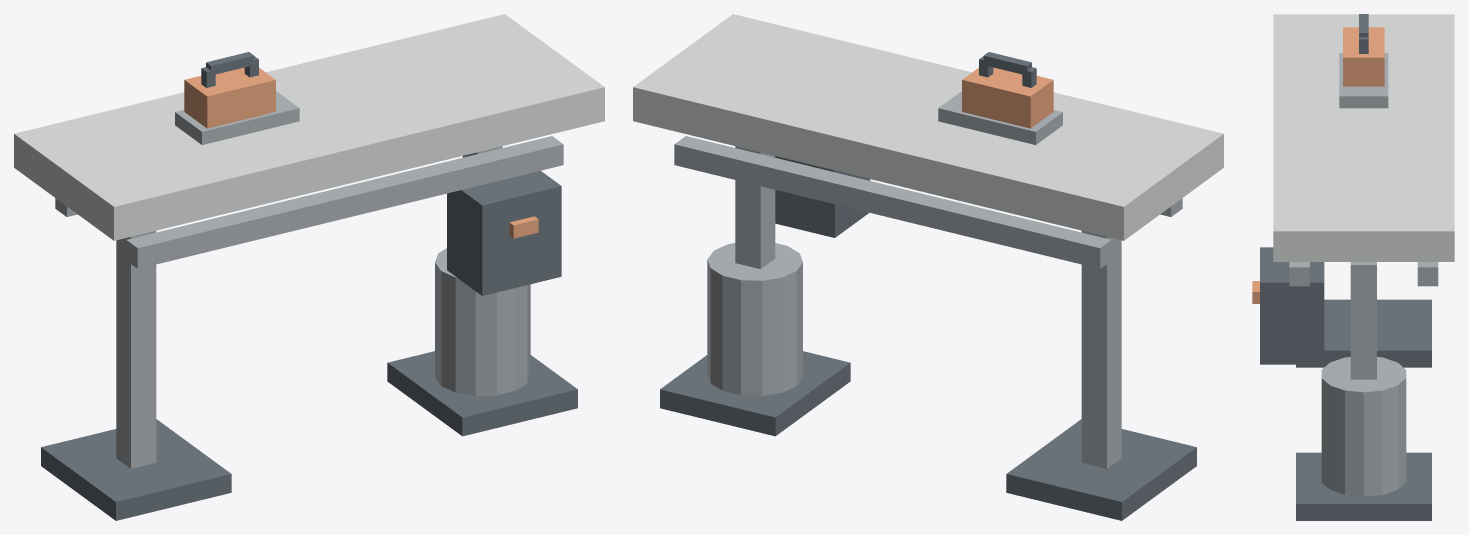
Rendered from production_ironing_station.glb.
3 renders of one model, left to right at view 1: azimuth 30°, elevation 25°; view 2: azimuth 150°, elevation 25°; view 3: azimuth 270°, elevation 25°, orthographic. The views are drawn at different scales.
Visible parts, largest first — view 1: Prop_00_00_IronStation_00_PaddedBoard_geo, Prop_01_01_IronStation_01_FrameFront_geo, Prop_07_07_IronStation_07_ControlBox_geo, Prop_04_04_IronStation_04_Foot_0_48_geo, Prop_14_14_IronStation_14_SteamTank_geo, Prop_03_03_IronStation_03_Leg_0_48_geo, Prop_06_06_IronStation_06_Foot0_48_geo, Prop_10_10_IronStation_10_IronBody_geo, Prop_09_09_IronStation_09_IronSole_geo, Prop_11_11_IronStation_11_IronHandle_geo; view 2: Prop_00_00_IronStation_00_PaddedBoard_geo, Prop_02_02_IronStation_02_FrameBack_geo, Prop_14_14_IronStation_14_SteamTank_geo, Prop_04_04_IronStation_04_Foot_0_48_geo, Prop_03_03_IronStation_03_Leg_0_48_geo, Prop_06_06_IronStation_06_Foot0_48_geo, Prop_10_10_IronStation_10_IronBody_geo, Prop_05_05_IronStation_05_Leg0_48_geo, Prop_07_07_IronStation_07_ControlBox_geo, Prop_09_09_IronStation_09_IronSole_geo, Prop_11_11_IronStation_11_IronHandle_geo; view 3: Prop_00_00_IronStation_00_PaddedBoard_geo, Prop_14_14_IronStation_14_SteamTank_geo, Prop_07_07_IronStation_07_ControlBox_geo, Prop_06_06_IronStation_06_Foot0_48_geo, Prop_04_04_IronStation_04_Foot_0_48_geo, Prop_05_05_IronStation_05_Leg0_48_geo, Prop_10_10_IronStation_10_IronBody_geo, Prop_09_09_IronStation_09_IronSole_geo, Prop_02_02_IronStation_02_FrameBack_geo, Prop_01_01_IronStation_01_FrameFront_geo.
Boxes of the visible parts, <box> form: Prop_00_00_IronStation_00_PaddedBoard_geo: <box>14,14,604,240</box>; Prop_01_01_IronStation_01_FrameFront_geo: <box>126,136,563,268</box>; Prop_07_07_IronStation_07_ControlBox_geo: <box>447,170,561,295</box>; Prop_04_04_IronStation_04_Foot_0_48_geo: <box>41,419,231,520</box>; Prop_14_14_IronStation_14_SteamTank_geo: <box>435,248,530,395</box>; Prop_03_03_IronStation_03_Leg_0_48_geo: <box>116,231,156,468</box>; Prop_06_06_IronStation_06_Foot0_48_geo: <box>387,351,577,436</box>; Prop_10_10_IronStation_10_IronBody_geo: <box>184,67,275,128</box>; Prop_09_09_IronStation_09_IronSole_geo: <box>175,91,299,144</box>; Prop_11_11_IronStation_11_IronHandle_geo: <box>206,52,254,75</box>; Prop_00_00_IronStation_00_PaddedBoard_geo: <box>633,14,1223,240</box>; Prop_02_02_IronStation_02_FrameBack_geo: <box>674,136,1111,268</box>; Prop_14_14_IronStation_14_SteamTank_geo: <box>707,243,802,395</box>; Prop_04_04_IronStation_04_Foot_0_48_geo: <box>1006,419,1196,520</box>; Prop_03_03_IronStation_03_Leg_0_48_geo: <box>1081,231,1121,468</box>; Prop_06_06_IronStation_06_Foot0_48_geo: <box>660,351,850,436</box>; Prop_10_10_IronStation_10_IronBody_geo: <box>962,67,1053,128</box>; Prop_05_05_IronStation_05_Leg0_48_geo: <box>735,146,775,268</box>; Prop_07_07_IronStation_07_ControlBox_geo: <box>775,156,870,237</box>; Prop_09_09_IronStation_09_IronSole_geo: <box>938,91,1062,144</box>; Prop_11_11_IronStation_11_IronHandle_geo: <box>983,52,1031,75</box>; Prop_00_00_IronStation_00_PaddedBoard_geo: <box>1273,14,1454,261</box>; Prop_14_14_IronStation_14_SteamTank_geo: <box>1321,357,1406,496</box>; Prop_07_07_IronStation_07_ControlBox_geo: <box>1260,247,1324,364</box>; Prop_06_06_IronStation_06_Foot0_48_geo: <box>1296,452,1431,520</box>; Prop_04_04_IronStation_04_Foot_0_48_geo: <box>1296,299,1431,367</box>; Prop_05_05_IronStation_05_Leg0_48_geo: <box>1350,262,1376,379</box>; Prop_10_10_IronStation_10_IronBody_geo: <box>1343,27,1384,86</box>; Prop_09_09_IronStation_09_IronSole_geo: <box>1339,53,1388,108</box>; Prop_02_02_IronStation_02_FrameBack_geo: <box>1417,262,1438,286</box>; Prop_01_01_IronStation_01_FrameFront_geo: <box>1289,262,1309,286</box>.
Size of the model in its own units: 1.23 by 0.95 by 0.4829.
